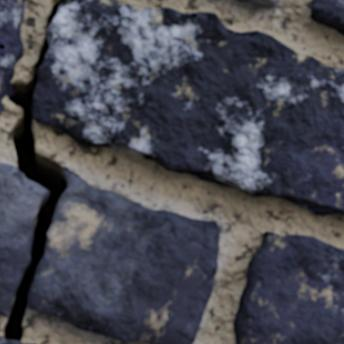brick: (34, 0, 343, 215), (235, 232, 343, 343), (0, 0, 25, 114), (311, 0, 343, 34), (235, 0, 280, 9), (0, 339, 20, 343)
broken_brick: (31, 168, 220, 343), (0, 162, 44, 315)
crack: (0, 0, 69, 342)
